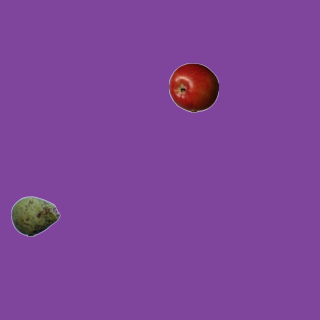Apple Braeburn: (168, 62, 218, 112)
Pear Stone: (10, 191, 60, 241)
